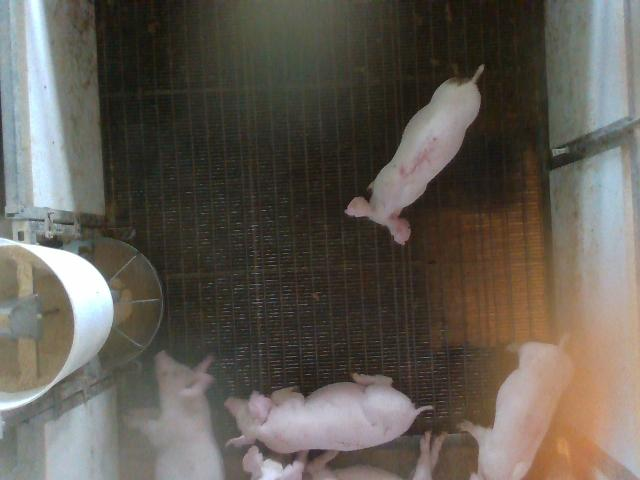pig-4: (460, 342, 574, 479)
pig-5: (345, 65, 484, 244)
